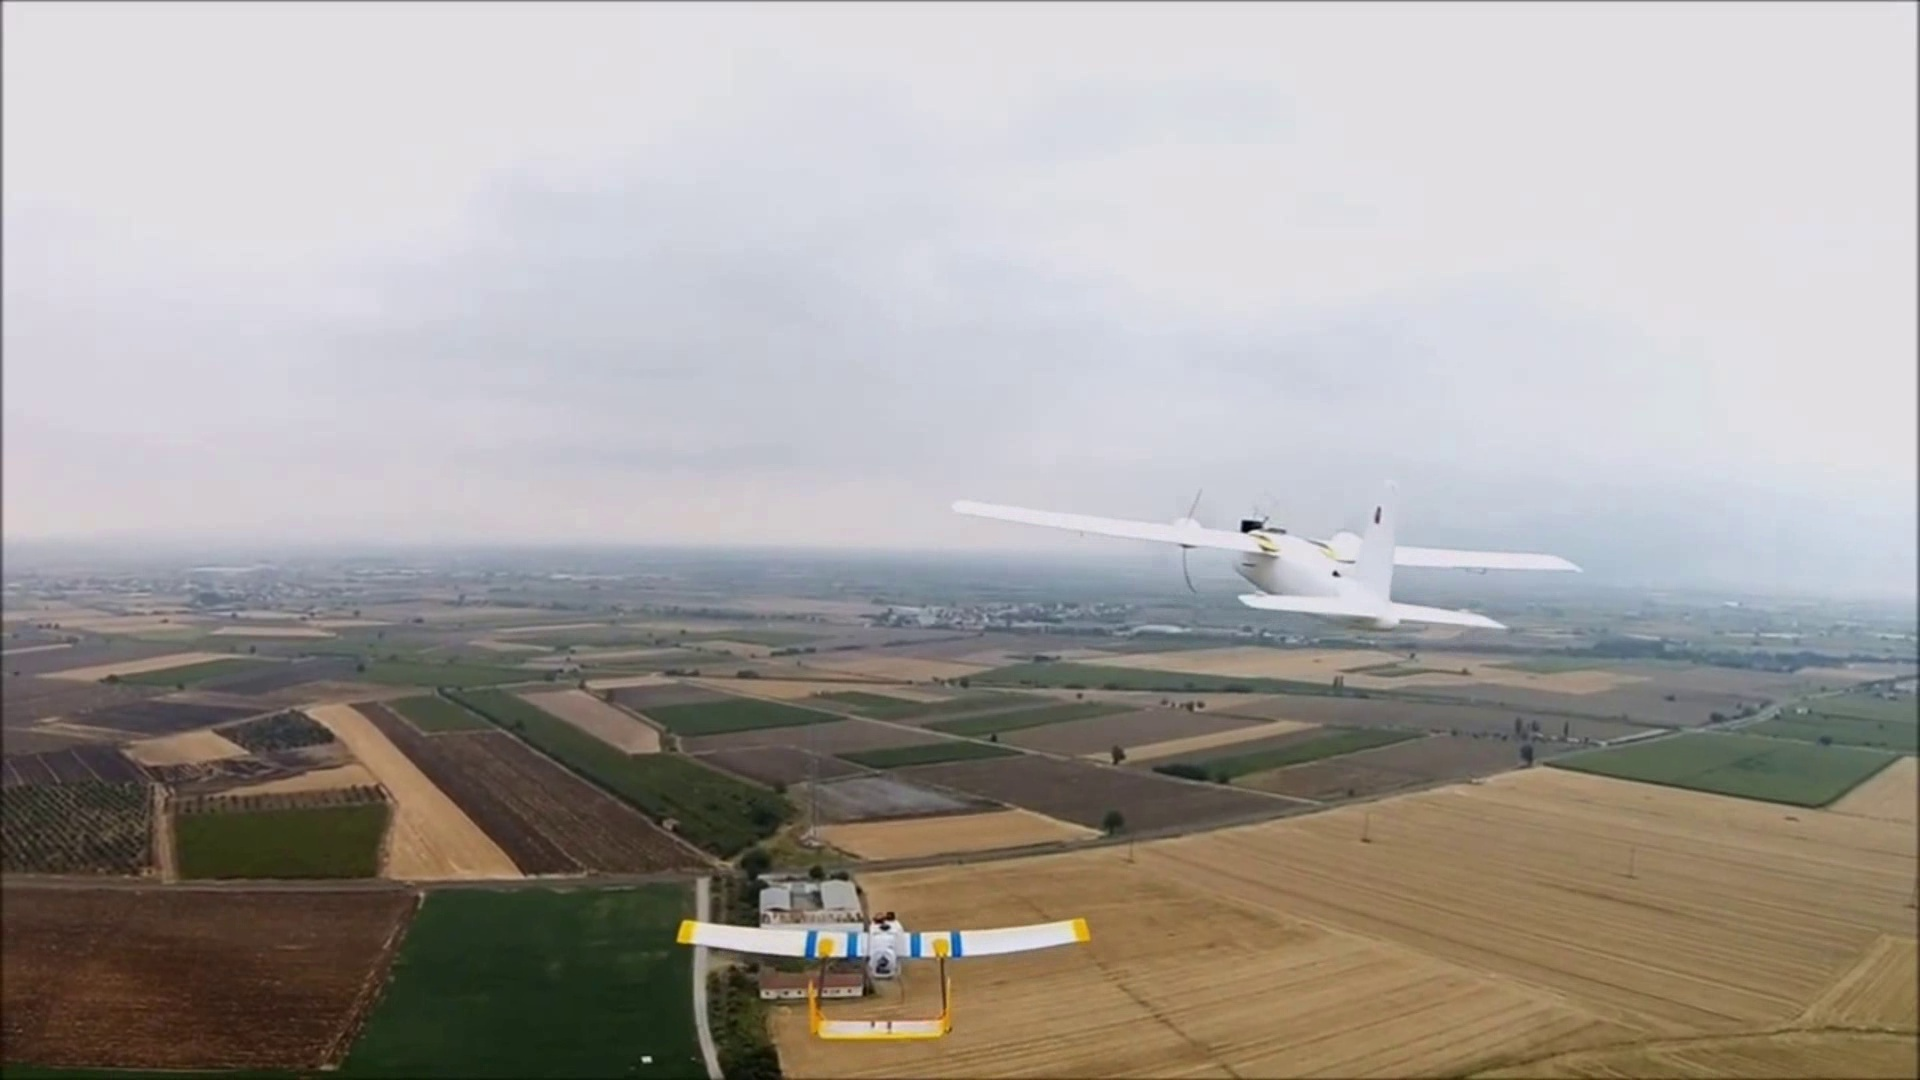airplane: (947, 488, 1582, 637)
